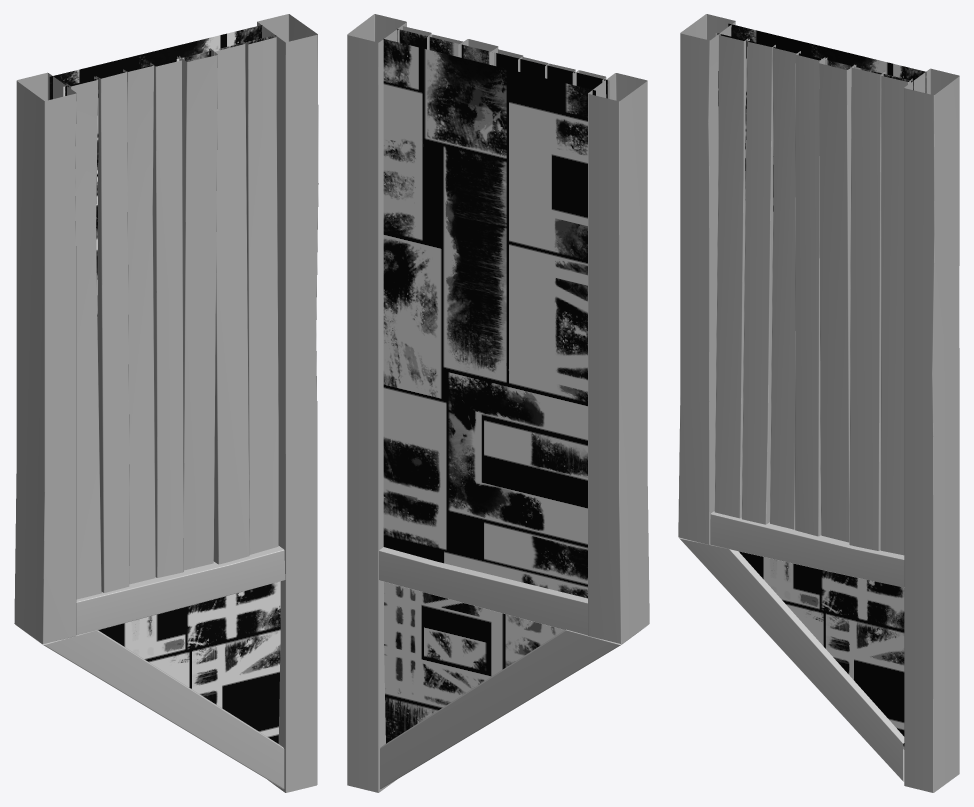
The model's file is SM_wall01_Wall_020.fbx.
3 renders of one model, left to right at view 1: azimuth 30°, elevation 25°; view 2: azimuth 150°, elevation 25°; view 3: azimuth 330°, elevation 25°, orthographic. The views are drawn at different scales.
Parts seen in each view (by area): view 1: SM_wall01_Wall_020_LOD0; view 2: SM_wall01_Wall_020_LOD0; view 3: SM_wall01_Wall_020_LOD0.
Part boxes in pixels (<box>): SM_wall01_Wall_020_LOD0: <box>14,14,318,792</box>; SM_wall01_Wall_020_LOD0: <box>347,14,649,792</box>; SM_wall01_Wall_020_LOD0: <box>678,14,959,792</box>.
Bounding box in the file's own units: 173 × 31.48 × 451.
